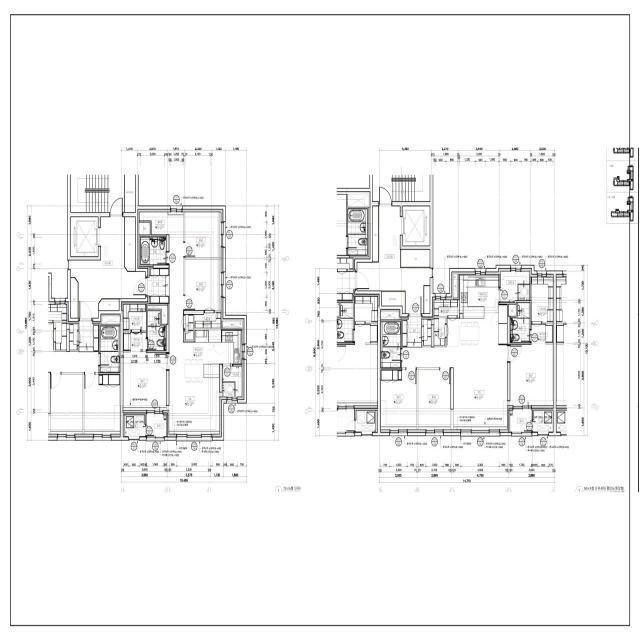space_balconi: (510, 410, 532, 432), (146, 415, 166, 437)
space_bedroom: (510, 344, 553, 406), (123, 353, 166, 410), (381, 370, 417, 429), (418, 370, 451, 429), (185, 260, 221, 311), (185, 212, 221, 257)
space_dressroom: (531, 277, 553, 322), (123, 305, 146, 330), (124, 332, 146, 350), (195, 313, 221, 328), (532, 325, 552, 342)
space_elevator: (400, 206, 430, 246), (71, 217, 101, 256)
space_elevator_hall: (357, 206, 430, 313), (71, 217, 145, 318)
space_front: (402, 317, 431, 347), (147, 269, 169, 303)
space_kitchen: (183, 330, 242, 364), (459, 275, 499, 318)
space_living_room: (402, 305, 507, 430), (169, 235, 219, 434)
space_multipurpose_space: (500, 271, 530, 302), (222, 366, 242, 397)
space_other: (140, 212, 184, 235), (125, 217, 135, 271), (401, 250, 430, 267), (382, 292, 405, 313), (434, 300, 459, 318), (125, 175, 135, 212), (434, 319, 447, 347), (148, 306, 168, 324), (372, 206, 378, 262), (71, 278, 78, 318), (185, 315, 194, 340), (99, 299, 119, 310), (381, 311, 399, 320), (424, 286, 430, 313), (139, 222, 150, 235), (222, 321, 242, 328), (454, 275, 458, 298), (509, 305, 516, 316)
space_outdoor_room: (125, 415, 145, 436), (534, 410, 553, 432)
space_staircase: (71, 175, 124, 212)
space_toilet: (381, 321, 401, 368), (510, 303, 530, 342), (140, 237, 166, 265), (148, 311, 166, 350)
